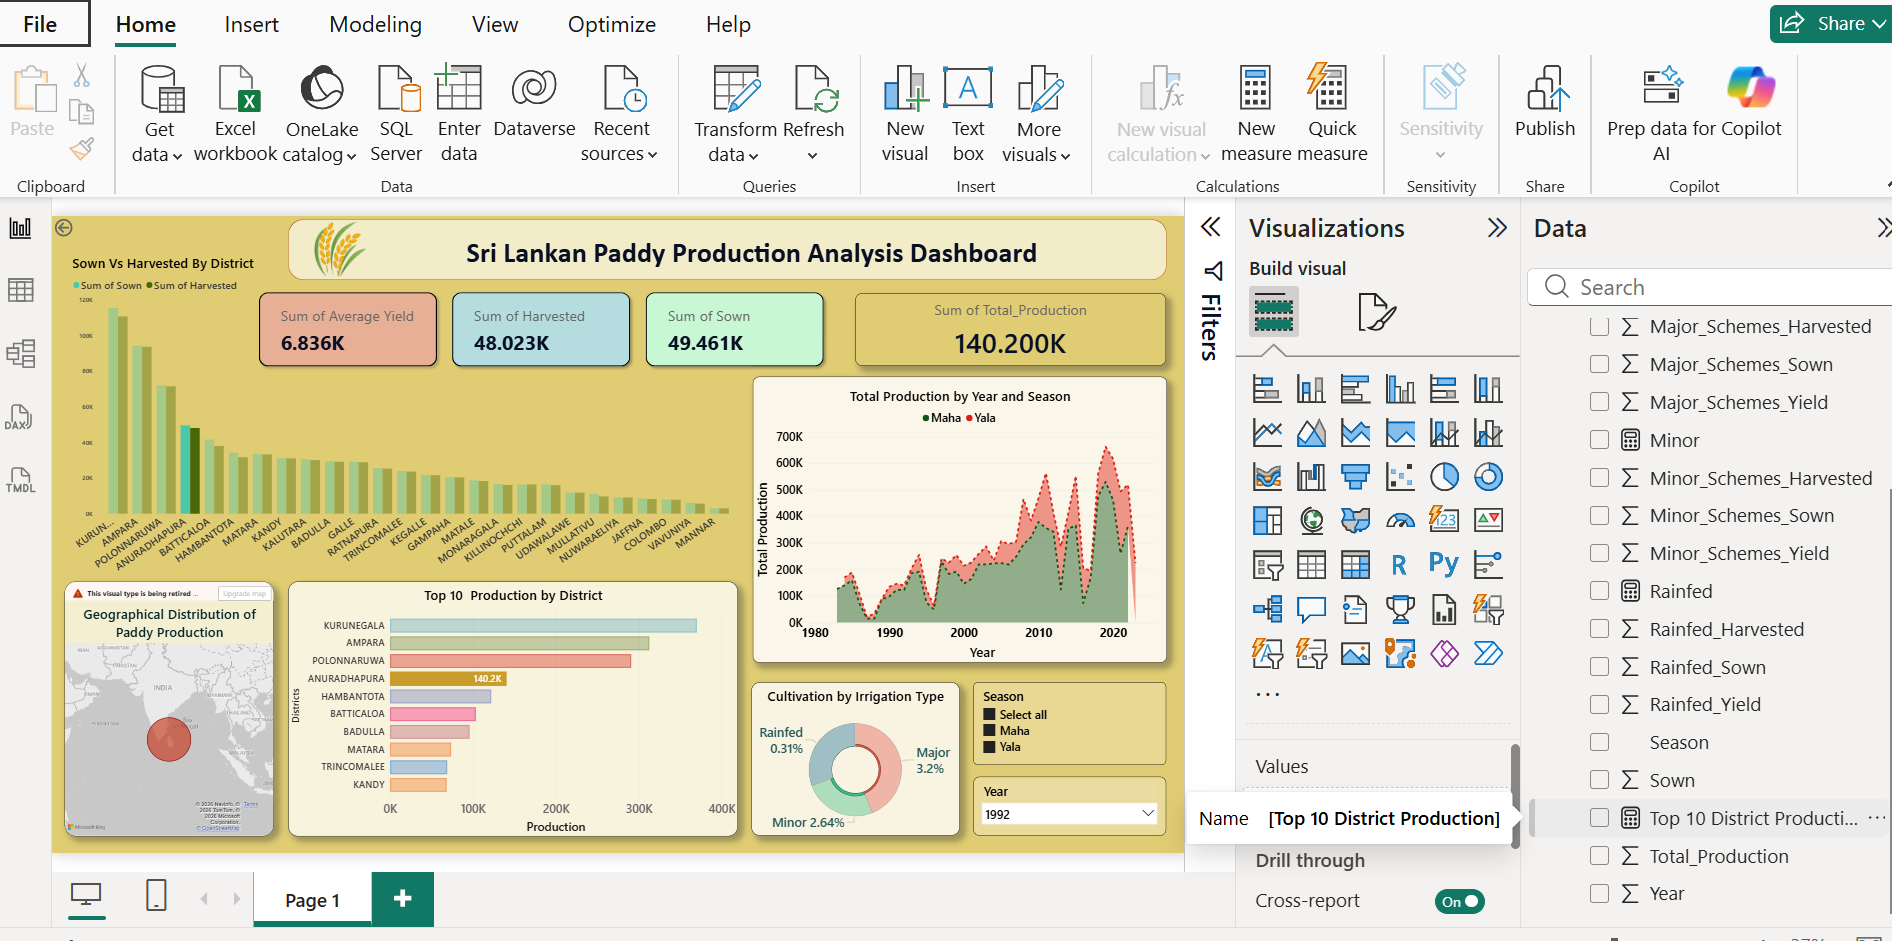

This screenshot's page, from the dashboard's own definition file:
{"tool":"powerbi","page":{"name":"Page 1","canvas":[1920,1080],"ordinal":0},"visuals":[{"type":"textbox","box":[68,26,1062,152],"z":0},{"type":"stackedAreaChart","title":" Total Production by Year and Season","fields":{"Category":["paddy_combined.Year"],"Series":["paddy_combined.Season"],"Y":["Sum(paddy_combined.Total_Production)"]},"box":[1187.5,272.5,702.5,485],"z":1000},{"type":"shape","box":[400,6.7,1490,103.3],"z":2000},{"type":"slicer","fields":{"Values":["paddy_combined.Year"]},"box":[1563.3,950,326.7,100],"z":3000},{"type":"slicer","fields":{"Values":["paddy_combined.Season"]},"box":[1563.3,790,326.7,140],"z":4000},{"type":"qnaVisual","box":[1920,528,262,524],"z":5000},{"type":"actionButton","box":[0,0,100,40],"z":6000},{"type":"donutChart","title":"Cultivation by Irrigation Type","fields":{"Y":["paddy_combined.Major","paddy_combined.Minor","paddy_combined.Rainfed"]},"box":[1186.7,790,353.3,260],"z":7000},{"type":"textbox","box":[490,26.7,1396.7,70],"z":8000},{"type":"map","title":"Geographical Distribution of Paddy Production","fields":{"Category":["paddy_combined.District"],"Size":["Sum(paddy_combined.Total_Production)"]},"box":[22.5,620,355,432.5],"z":9000},{"type":"clusteredBarChart","title":"Top 10  Production by District","fields":{"Category":["paddy_combined.District"],"Y":["paddy_combined.Top 10 District Production"]},"box":[400,620,762.5,432.5],"z":10000},{"type":"textbox","box":[1328,238,592,150],"z":11000},{"type":"cardVisual","fields":{"Data":["Sum(paddy_combined.Average Yield)","Sum(paddy_combined.Harvested)","Sum(paddy_combined.Sown)"]},"box":[333.3,113.3,993.3,160],"z":12000},{"type":"image","box":[380,0,220,113.3],"z":13000},{"type":"clusteredColumnChart","title":"Sown Vs Harvested By District","fields":{"Y":["Sum(paddy_combined.Sown)","Sum(paddy_combined.Harvested)"],"Category":["paddy_combined.District"]},"box":[30,63.3,1140,560],"z":14000},{"type":"cardVisual","fields":{"Data":["Sum(paddy_combined.Total_Production)"]},"box":[1363.3,130,526.7,123.3],"z":14001}]}

Visuals, with their boxes on the page's 1920x1080 design canvas (x1, y1, x2, y2). These are canvas units, not pixel positions in the 1892x941 screenshot, which may show the page scaled, cropped or inside an application window:
textbox: (x1=68, y1=26, x2=1130, y2=178)
" Total Production by Year and Season" stackedAreaChart: (x1=1188, y1=272, x2=1890, y2=758)
shape: (x1=400, y1=7, x2=1890, y2=110)
slicer - paddy_combined.Year: (x1=1563, y1=950, x2=1890, y2=1050)
slicer - paddy_combined.Season: (x1=1563, y1=790, x2=1890, y2=930)
qnaVisual: (x1=1920, y1=528, x2=2182, y2=1052)
actionButton: (x1=0, y1=0, x2=100, y2=40)
"Cultivation by Irrigation Type" donutChart: (x1=1187, y1=790, x2=1540, y2=1050)
textbox: (x1=490, y1=27, x2=1887, y2=97)
"Geographical Distribution of Paddy Production" map: (x1=22, y1=620, x2=378, y2=1052)
"Top 10  Production by District" clusteredBarChart: (x1=400, y1=620, x2=1162, y2=1052)
textbox: (x1=1328, y1=238, x2=1920, y2=388)
cardVisual - Sum(paddy_combined.Average Yield) x Sum(paddy_combined.Harvested): (x1=333, y1=113, x2=1327, y2=273)
image: (x1=380, y1=0, x2=600, y2=113)
"Sown Vs Harvested By District" clusteredColumnChart: (x1=30, y1=63, x2=1170, y2=623)
cardVisual - Sum(paddy_combined.Total_Production): (x1=1363, y1=130, x2=1890, y2=253)
